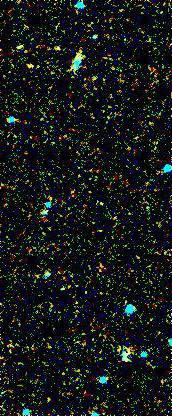star: (111, 343, 141, 373)
